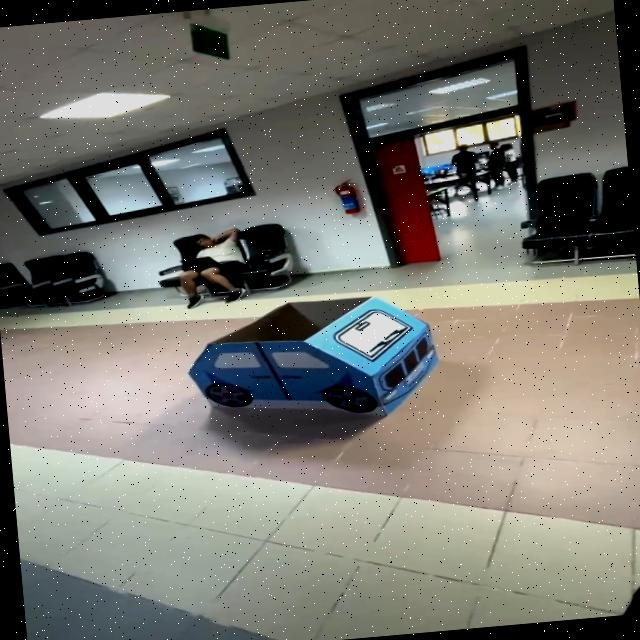blue_car: (169, 279, 455, 443)
